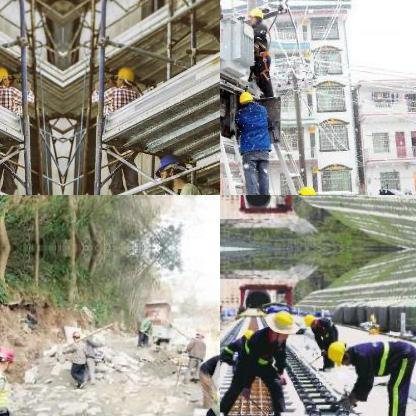Helmet: (149, 150, 187, 188), (324, 337, 350, 365), (268, 308, 296, 332), (112, 62, 132, 88), (0, 342, 16, 371), (300, 309, 320, 331), (0, 61, 12, 90), (245, 5, 264, 23), (236, 88, 254, 106), (241, 326, 257, 342), (295, 183, 317, 194)
